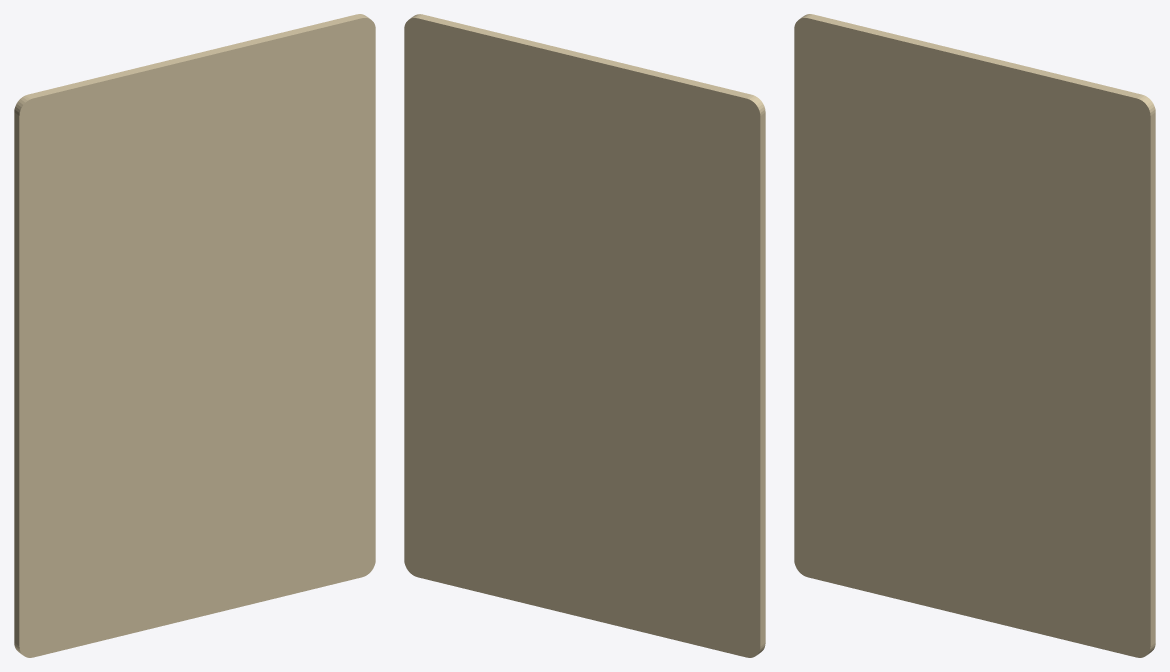
Rendered from card-procedural-backup.glb.
3 renders of one model, left to right at view 1: azimuth 30°, elevation 25°; view 2: azimuth 150°, elevation 25°; view 3: azimuth 330°, elevation 25°, orthographic.
Visible parts, largest first — view 1: Card face, Silver gold rim, Rounded card edge; view 2: Card back, Rounded card edge; view 3: Card face, Silver gold rim, Rounded card edge.
Boxes of the visible parts, box(x1,y1,x2,y2) form: Card face: box(19, 18, 372, 653); Silver gold rim: box(19, 18, 375, 657); Rounded card edge: box(14, 14, 369, 654); Card back: box(404, 18, 760, 657); Rounded card edge: box(410, 14, 765, 654); Card face: box(797, 18, 1150, 653); Silver gold rim: box(794, 18, 1150, 657); Rounded card edge: box(800, 14, 1155, 654).
Bounding box in the file's own units: 6.3 × 9.45 × 0.165.
